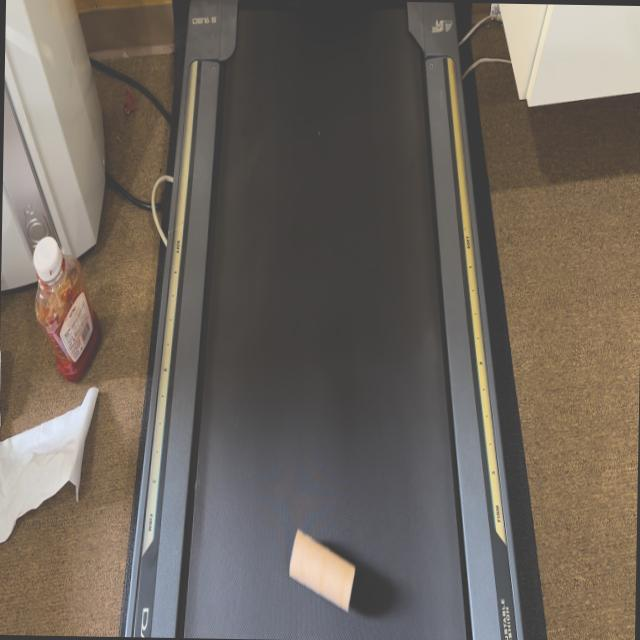Recycle: (284, 522, 358, 618)
